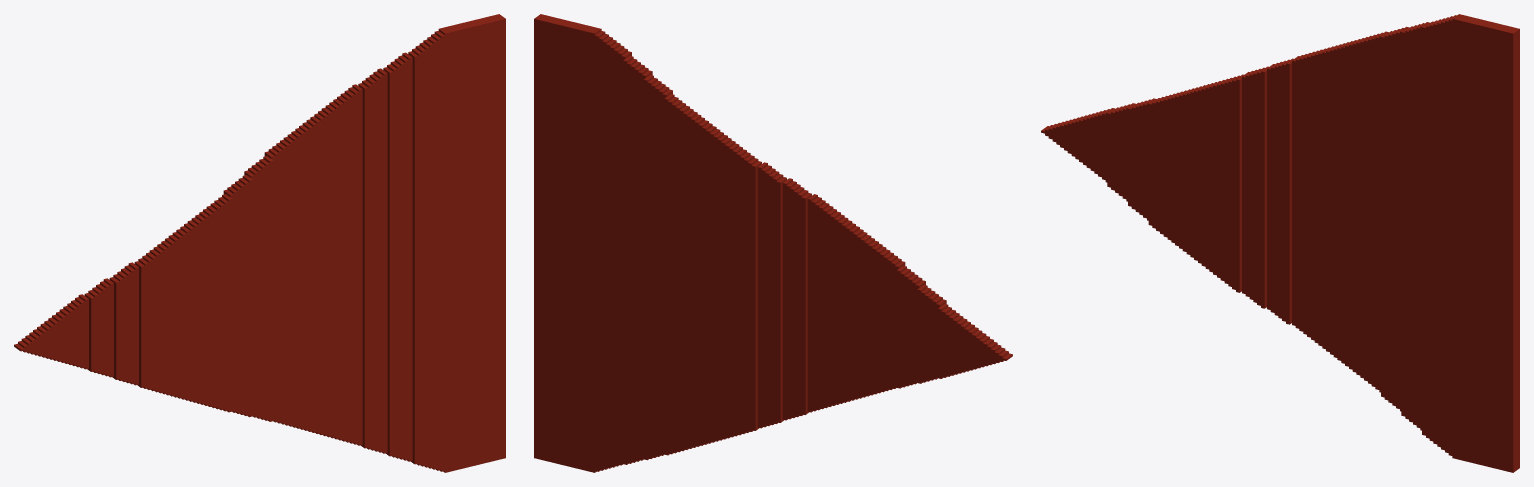
File: flag_full3-0.obj
3 views of the same model, side by side, from view 1: azimuth 30°, elevation 25°; view 2: azimuth 150°, elevation 25°; view 3: azimuth 330°, elevation 25° (orthographic).
Size of the model in its own units: 25.2 by 22.1 by 1.2.
1 material, 1 textured.
